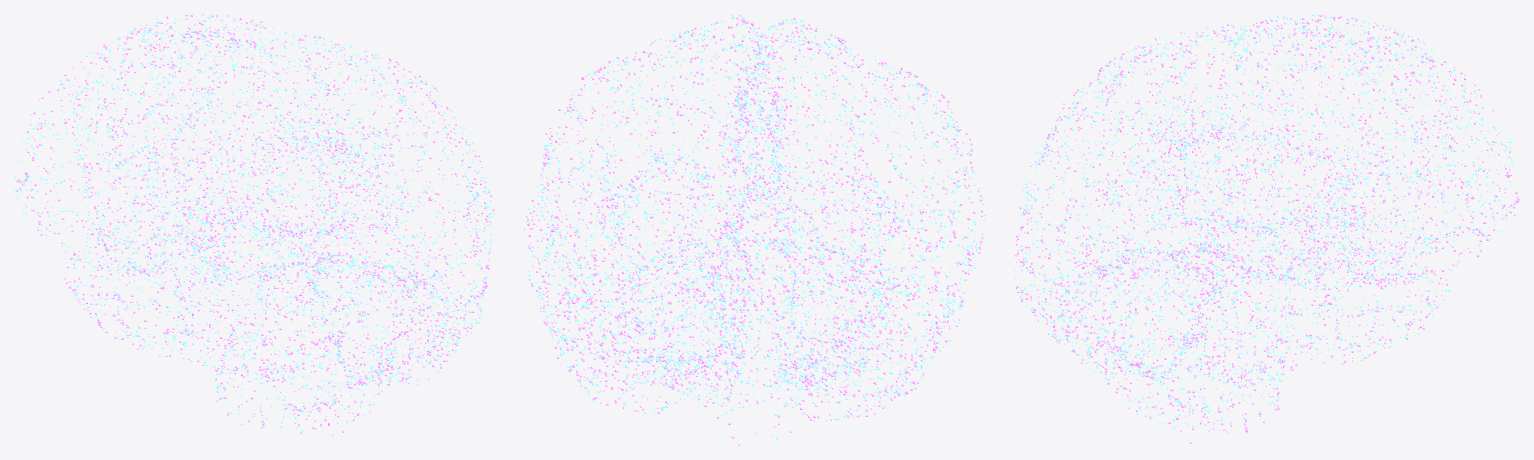
Rendered from kortex-brain.glb.
The picture shows the model from 3 angles, left to right: view 1: azimuth 30°, elevation 25°; view 2: azimuth 150°, elevation 25°; view 3: azimuth 270°, elevation 25°; orthographic projection. The views are drawn at different scales.
Parts seen in each view (by area): view 1: Icosphere.10807, Icosphere.10807_node; view 2: Icosphere.10807, Icosphere.10807_node; view 3: Icosphere.10807, Icosphere.10807_node.
Part boxes in pixels (x1,y1,x2,y2): Icosphere.10807: (16,14,494,435); Icosphere.10807_node: (14,14,494,445); Icosphere.10807: (526,15,985,445); Icosphere.10807_node: (523,14,985,440); Icosphere.10807: (1014,14,1519,443); Icosphere.10807_node: (1019,14,1518,445).
Bounding box in the file's own units: 109 × 110 × 130.
